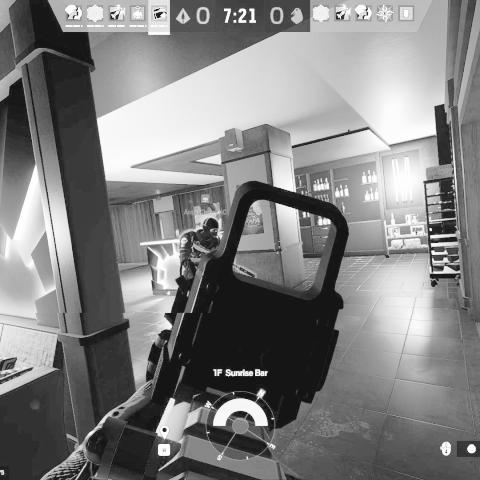Character: (178, 216, 258, 287)
Friend_label: (182, 192, 228, 216)
Head: (202, 216, 220, 238)
